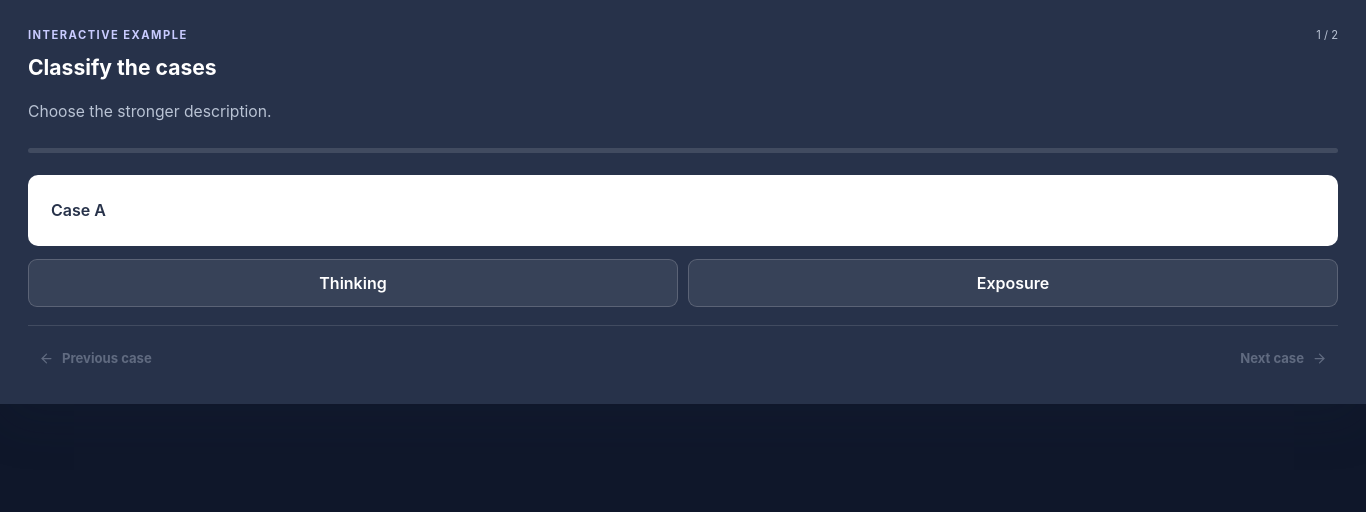
it: CategoryChallenge › keeps explanations available when moving back and forward
Click the button "Thinking" at x=353, y=283, box top-left (28, 259), bottom-right (678, 307)
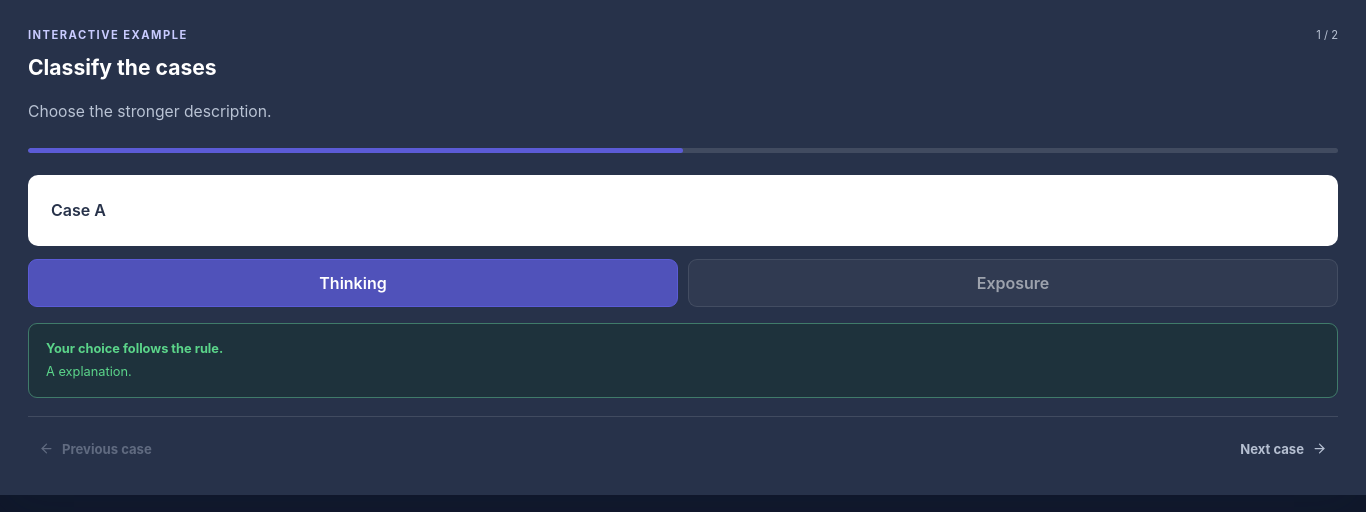
Result: the text "A explanation." is shown at top-left (46, 364), bottom-right (132, 379)
Click the button "Next case" at x=1284, y=449, box top-left (1229, 431), bottom-right (1338, 467)
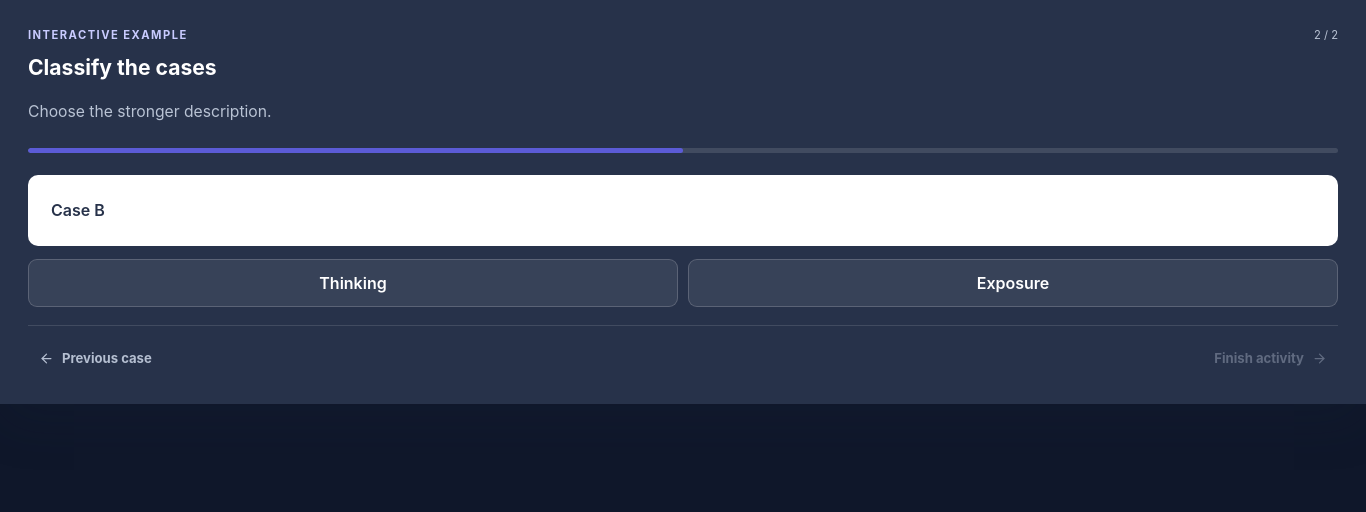
Click the button "Exposure" at x=1013, y=283, box top-left (688, 259), bottom-right (1338, 307)
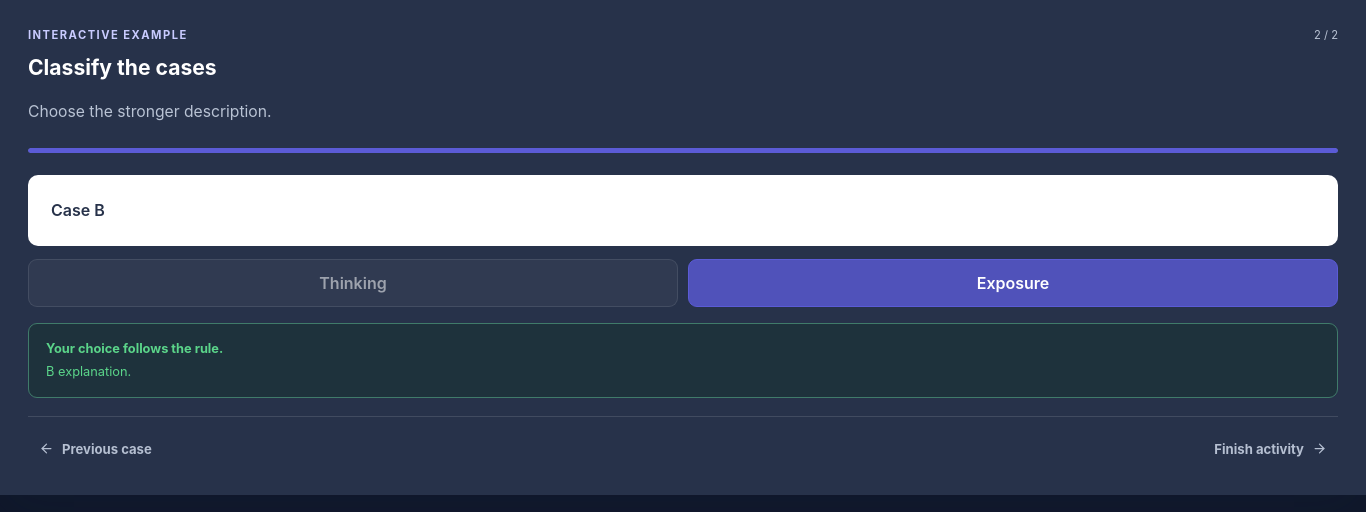
Result: the text "B explanation." is shown at top-left (46, 364), bottom-right (131, 379)
Click the button "Previous case" at x=95, y=449, box top-left (28, 431), bottom-right (163, 467)
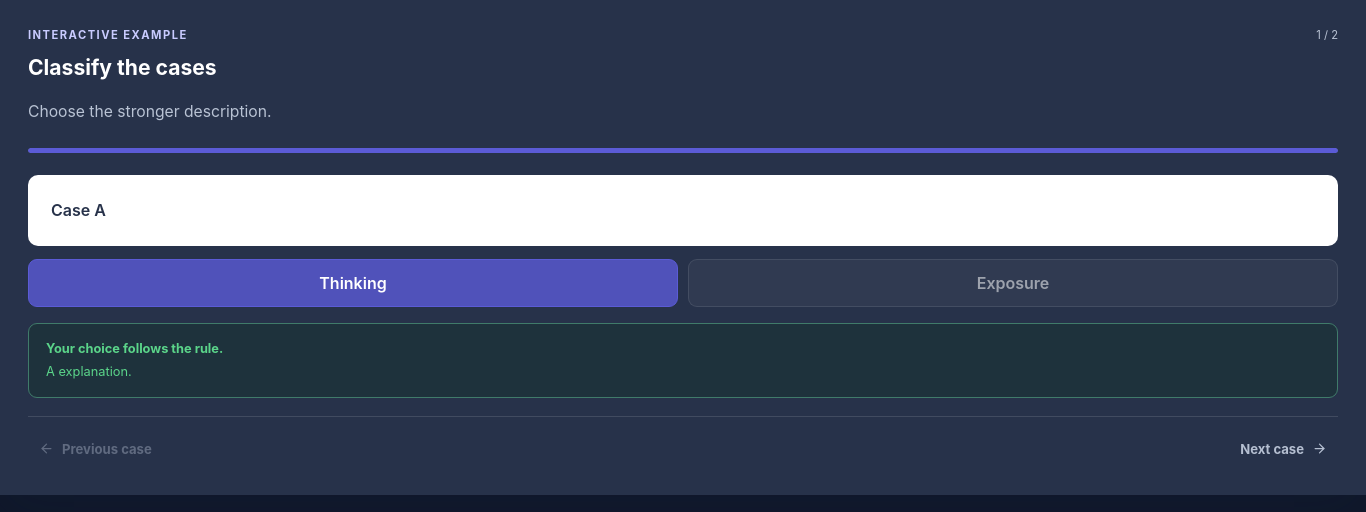
Result: the text "Case A" is shown at top-left (28, 175), bottom-right (1338, 246)
Result: the text "A explanation." is shown at top-left (46, 364), bottom-right (132, 379)
